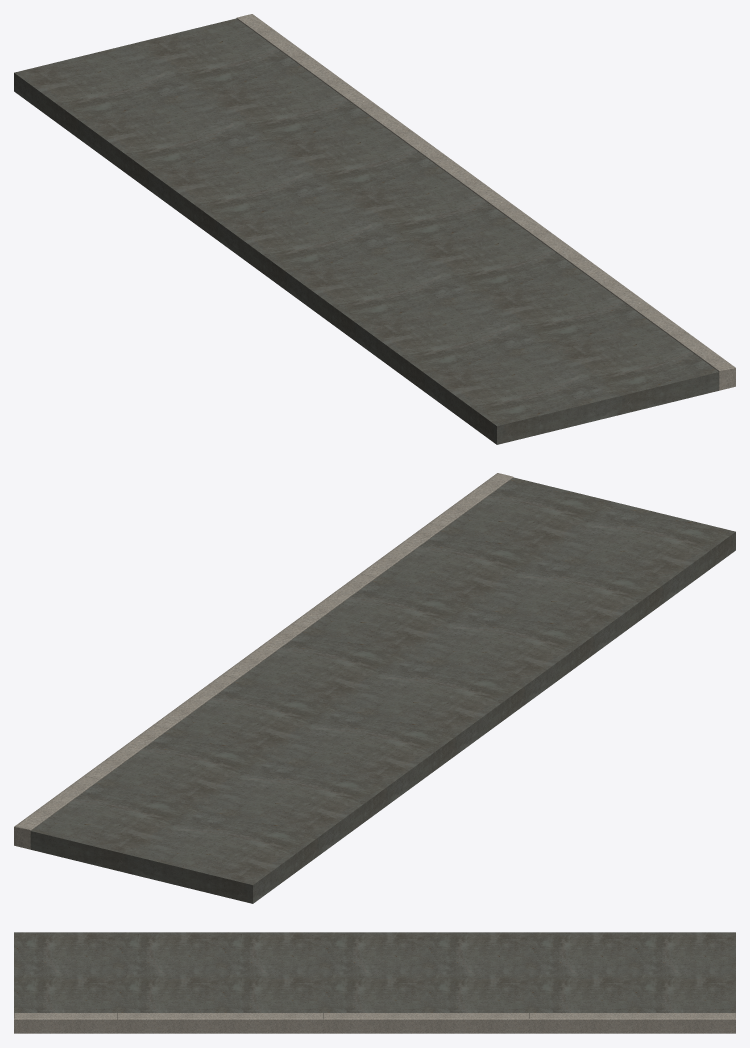
File: PavementLong.fbx
The picture shows the model from 3 angles, top to bottom: view 1: azimuth 30°, elevation 25°; view 2: azimuth 150°, elevation 25°; view 3: azimuth 270°, elevation 25°; orthographic projection. The views are drawn at different scales.
Visible parts, largest first — view 1: NBLong, MidLong; view 2: NBLong, MidLong; view 3: MidLong, NBLong.
Boxes of the visible parts, x1,y1,x2,y2 form: NBLong: (14,43,616,444); MidLong: (134,14,735,415); NBLong: (133,502,735,903); MidLong: (14,473,615,874); MidLong: (14,976,735,1033); NBLong: (14,932,735,975).
Size of the model in its own units: 400 by 31.38 by 1400.
